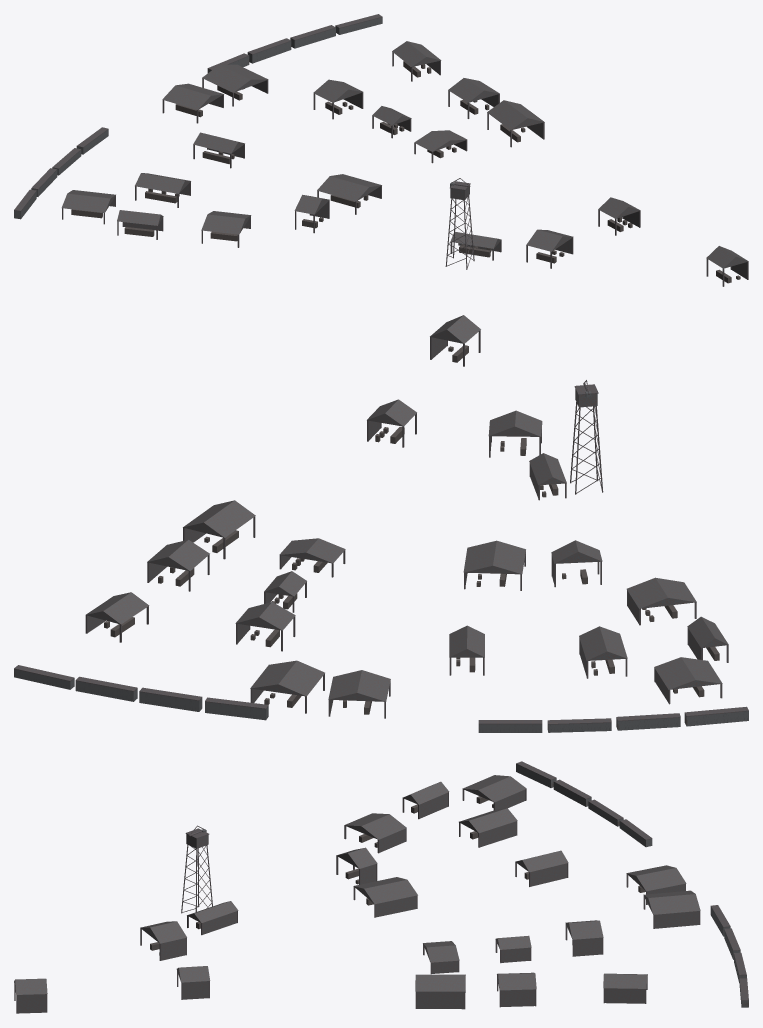
Rendered from SM_City_MarsaAlFajr_2.fbx.
3 renders of one model, top to bottom at view 1: azimuth 30°, elevation 25°; view 2: azimuth 150°, elevation 25°; view 3: azimuth 270°, elevation 25°, orthographic. The views are drawn at different scales.
Parts seen in each view (by area): view 1: SM_City_MarsaAlFajr_2; view 2: SM_City_MarsaAlFajr_2; view 3: SM_City_MarsaAlFajr_2.
Part boxes in pixels (box(x1,y1,x2,y2)): SM_City_MarsaAlFajr_2: box(14, 14, 748, 286); SM_City_MarsaAlFajr_2: box(14, 315, 748, 732); SM_City_MarsaAlFajr_2: box(14, 761, 748, 1013).
Size of the model in its own units: 9179 by 1546 by 11685.
4 materials, 4 textured.
